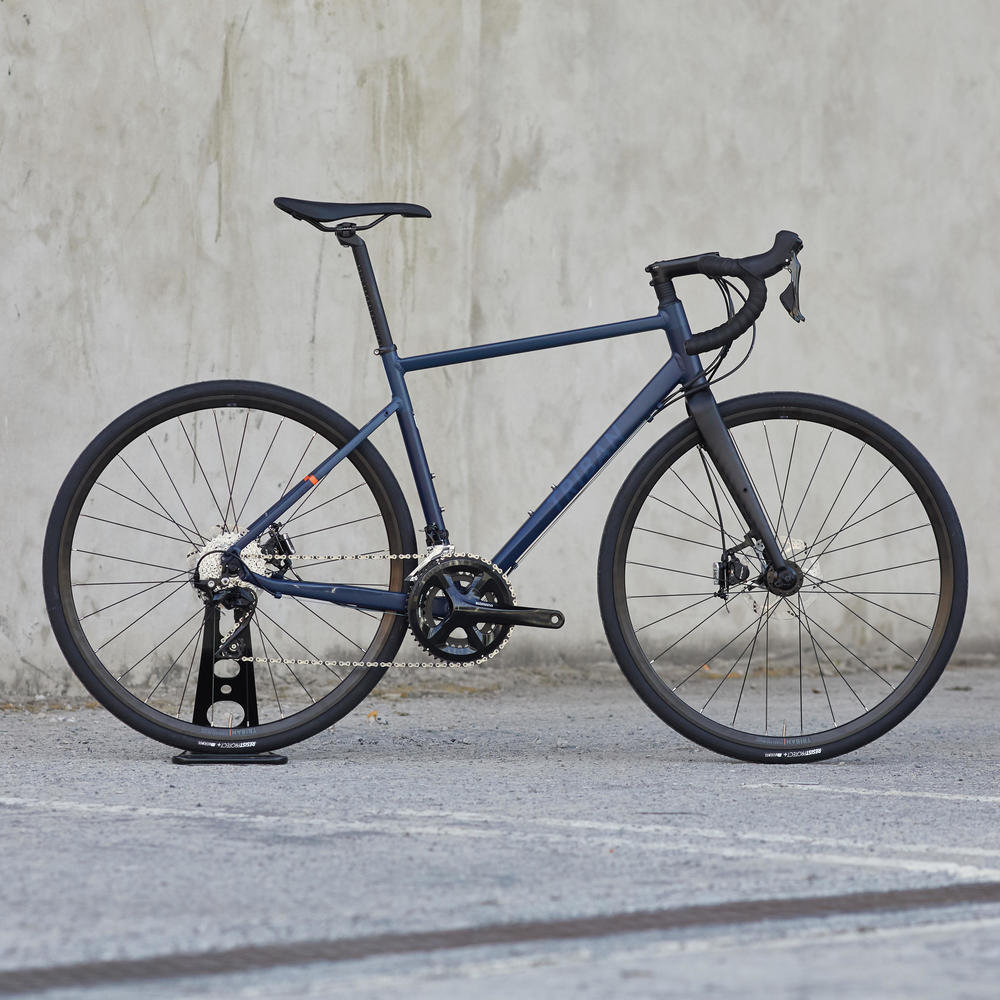RoadBike: (160, 230, 754, 752)
